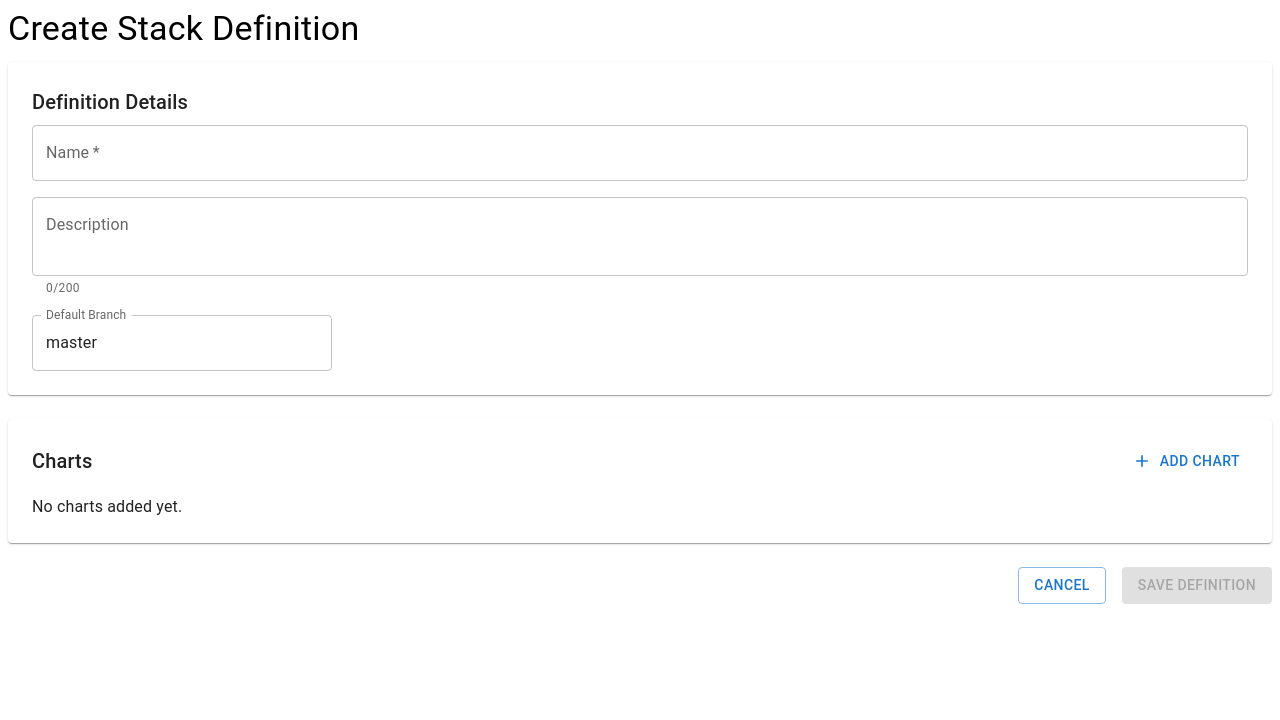
Scenario: StackDefinitions Form › removes a chart when remove button is clicked
Click the button "Add Chart" at (1188,461), box x1=1128 y1=443 x2=1248 y2=479
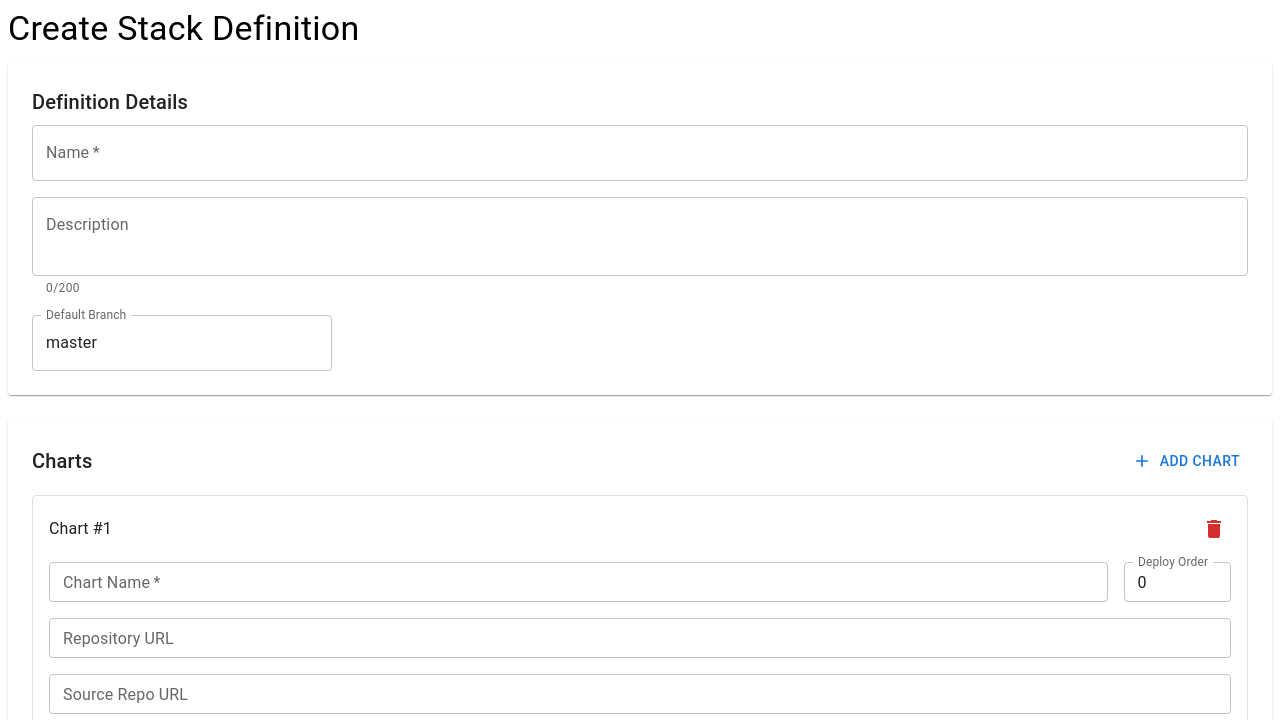
Expected: the heading "Chart #1" is shown, x1=49 y1=515 x2=112 y2=543
Click the button named "remove chart" at (1214,529), box x1=1197 y1=512 x2=1231 y2=546
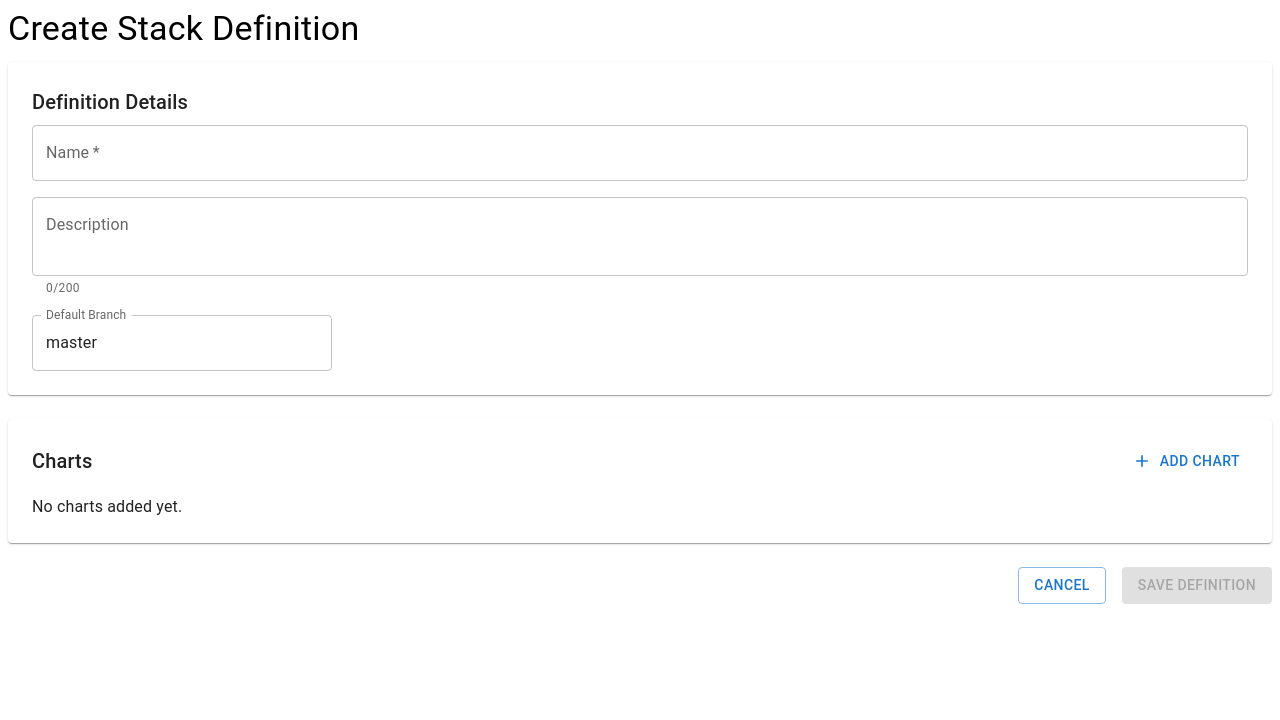
Expected: the heading "Chart #1" is gone
